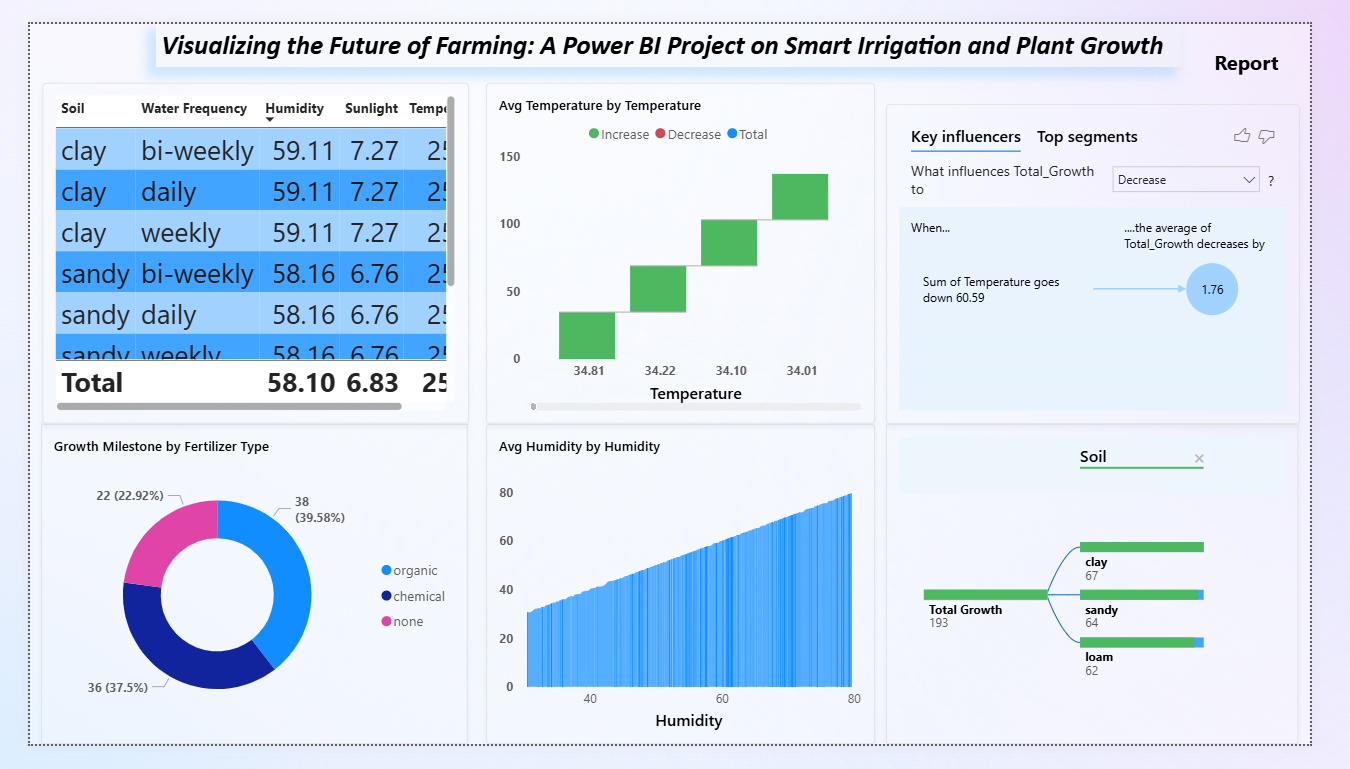

This screenshot's page, from the dashboard's own definition file:
{"tool":"powerbi","page":{"name":"Page 1","canvas":[1280,720],"ordinal":0},"visuals":[{"type":"textbox","box":[126.2,0,1025.1,43.5],"z":0},{"type":"ribbonChart","fields":{"Category":["Temperature.Humidity"],"Y":["Temperature.Avg_humidity"]},"box":[456,400.3,388.5,319.8],"z":2000},{"type":"waterfallChart","fields":{"Y":["Temperature.Avg_temperature"],"Category":["Temperature.Temperature"]},"box":[456,59.2,388.5,341.1],"z":3000},{"type":"donutChart","fields":{"Y":["Sum(growth.Growth_Milestone)"],"Category":["growth.Fertilizer_Type"]},"box":[11.8,400.3,426.4,319.8],"z":4000},{"type":"keyDriversVisual","fields":{"ExplainBy":["Sum(growth.Temperature)","growth.Soil_Type"],"Target":["growth.Total_Growth"]},"box":[856.3,80.5,413.3,319.8],"z":5000},{"type":"decompositionTreeVisual","fields":{"ExplainBy":["growth.Soil_Type"],"Analyze":["growth.Total_Growth"]},"box":[856.3,400.3,412.1,319.8],"z":6000},{"type":"tableEx","fields":{"Values":["Water_Frequency.Soil_Type","Water_Frequency.Water_Frequency","Temperature.Avg_humidity","Temperature.Avg_sunlight","Temperature.Avg_temperature"]},"box":[13,59.2,426.4,341.1],"z":7000},{"type":"actionButton","box":[1164.2,16.6,105.4,42.6],"z":8000}]}

Visuals, with their boxes in screenshot pixels (x1, y1, x2, y2), scaled from the page's 1280x720 canvas onto the 1350x769 screenshot:
textbox: region(133, 0, 1214, 46)
ribbonChart - Temperature.Humidity x Temperature.Avg_humidity: region(481, 428, 891, 768)
waterfallChart - Temperature.Avg_temperature x Temperature.Temperature: region(481, 63, 891, 428)
donutChart - Sum(growth.Growth_Milestone) x growth.Fertilizer_Type: region(12, 428, 462, 768)
keyDriversVisual - Sum(growth.Temperature) x growth.Soil_Type: region(903, 86, 1339, 428)
decompositionTreeVisual - growth.Soil_Type x growth.Total_Growth: region(903, 428, 1338, 768)
tableEx - Water_Frequency.Soil_Type x Water_Frequency.Water_Frequency: region(14, 63, 463, 428)
actionButton: region(1228, 18, 1339, 63)
